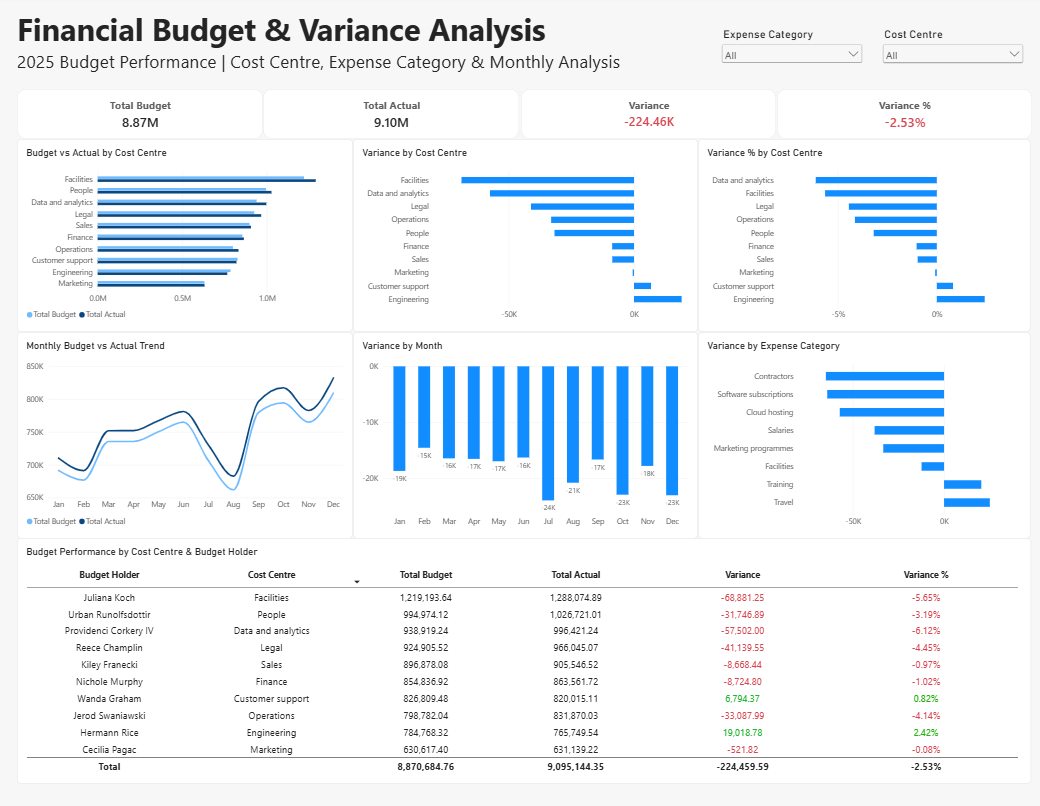

Layout of this report page (visuals, bound fields, positions):
{"tool":"powerbi","page":{"name":"Page 1","canvas":[1920,1490],"ordinal":0},"visuals":[{"type":"cardVisual","fields":{"Data":["budget_lines.Total Budget"]},"box":[39,170,451.4,92],"z":0},{"type":"cardVisual","fields":{"Data":["budget_lines.Total Actual"]},"box":[490.4,170,470.9,92],"z":1000},{"type":"cardVisual","fields":{"Data":["budget_lines.Variance"]},"box":[964.2,170,468.2,92],"z":2000},{"type":"cardVisual","fields":{"Data":["budget_lines.Variance %"]},"box":[1432.3,170,468.2,92],"z":3000},{"type":"clusteredBarChart","title":"Budget vs Actual by Cost Centre","fields":{"Category":["cost_centres.centre_name"],"Y":["budget_lines.Total Budget","budget_lines.Total Actual"]},"box":[39,261.9,615.8,353.9],"z":4000},{"type":"clusteredBarChart","title":"Variance by Cost Centre","fields":{"Category":["cost_centres.centre_name"],"Y":["budget_lines.Variance"]},"box":[654.9,261.9,632.6,353.9],"z":5000},{"type":"lineChart","title":"Monthly Budget vs Actual Trend","fields":{"Category":["months.Month Name"],"Y":["budget_lines.Total Budget","budget_lines.Total Actual"]},"box":[39,615.8,615.8,379],"z":6000},{"type":"clusteredBarChart","title":"Variance by Expense Category","fields":{"Category":["accounts.account_label"],"Y":["budget_lines.Variance"]},"box":[1287.4,615.8,610.3,379],"z":7000},{"type":"slicer","fields":{"Values":["cost_centres.centre_name"]},"box":[1621.8,58.5,267.5,75.2],"z":8000},{"type":"slicer","fields":{"Values":["accounts.account_label"]},"box":[1326.4,58.5,267.5,64.1],"z":9000},{"type":"clusteredBarChart","title":"Variance % by Cost Centre","fields":{"Category":["cost_centres.centre_name"],"Y":["budget_lines.Variance %"]},"box":[1287.4,261.9,610.3,353.9],"z":10000},{"type":"clusteredColumnChart","title":"Variance by Month","fields":{"Category":["months.Month Name"],"Y":["budget_lines.Variance"]},"box":[654.9,615.8,632.6,379],"z":11000},{"type":"tableEx","title":"Budget Performance by Cost Centre & Budget Holder","fields":{"Values":["cost_centres.budget_holder","cost_centres.centre_name","budget_lines.Total Budget","budget_lines.Total Actual","budget_lines.Variance","budget_lines.Variance %"]},"box":[38.5,994.6,1860.7,451.4],"z":12000},{"type":"textbox","box":[39,22.3,1348.7,94.7],"z":13000},{"type":"textbox","box":[39,97.5,1348.7,50.2],"z":15000}]}

Visuals, with their boxes in screenshot pixels (x1, y1, x2, y2), scaled from the page's 1920x1490 canvas onto the 1040x806 screenshot:
cardVisual - budget_lines.Total Budget: (21,92,266,142)
cardVisual - budget_lines.Total Actual: (266,92,521,142)
cardVisual - budget_lines.Variance: (522,92,776,142)
cardVisual - budget_lines.Variance %: (776,92,1029,142)
"Budget vs Actual by Cost Centre" clusteredBarChart: (21,142,355,333)
"Variance by Cost Centre" clusteredBarChart: (355,142,697,333)
"Monthly Budget vs Actual Trend" lineChart: (21,333,355,538)
"Variance by Expense Category" clusteredBarChart: (697,333,1028,538)
slicer - cost_centres.centre_name: (878,32,1023,72)
slicer - accounts.account_label: (718,32,863,66)
"Variance % by Cost Centre" clusteredBarChart: (697,142,1028,333)
"Variance by Month" clusteredColumnChart: (355,333,697,538)
"Budget Performance by Cost Centre & Budget Holder" tableEx: (21,538,1029,782)
textbox: (21,12,752,63)
textbox: (21,53,752,80)
